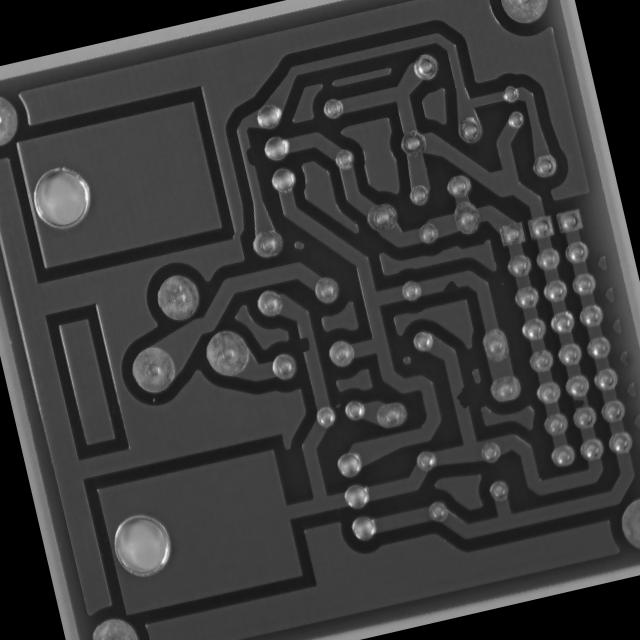mouse_bite: (429, 266, 464, 298), (444, 380, 474, 416), (234, 140, 262, 172), (292, 329, 320, 358), (568, 392, 592, 414)
